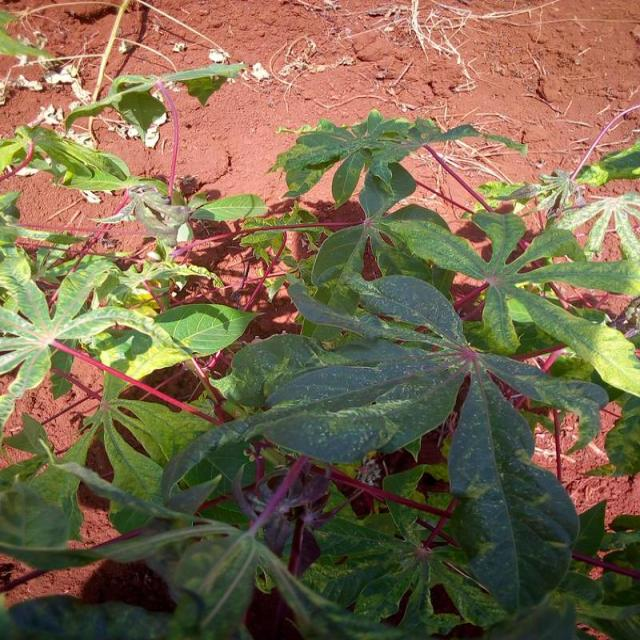cassava leaf: (446, 357, 579, 616)
